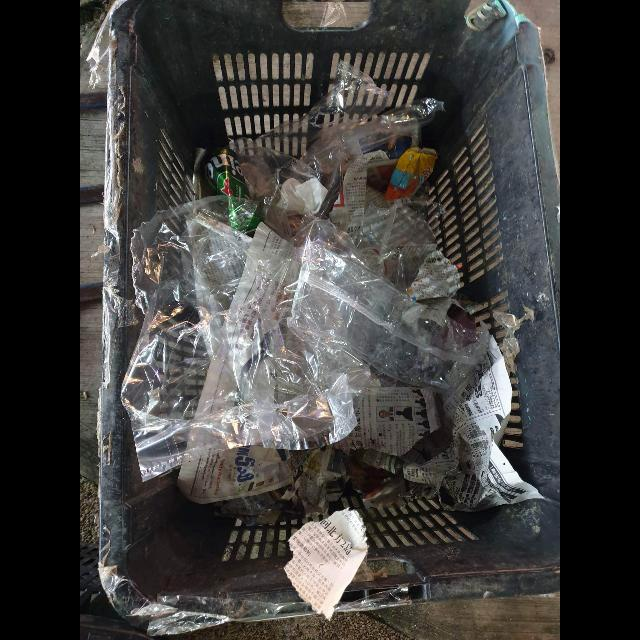aluminum: (201, 149, 261, 233)
paper: (177, 336, 546, 621)
plastic_bag: (121, 174, 491, 507)
